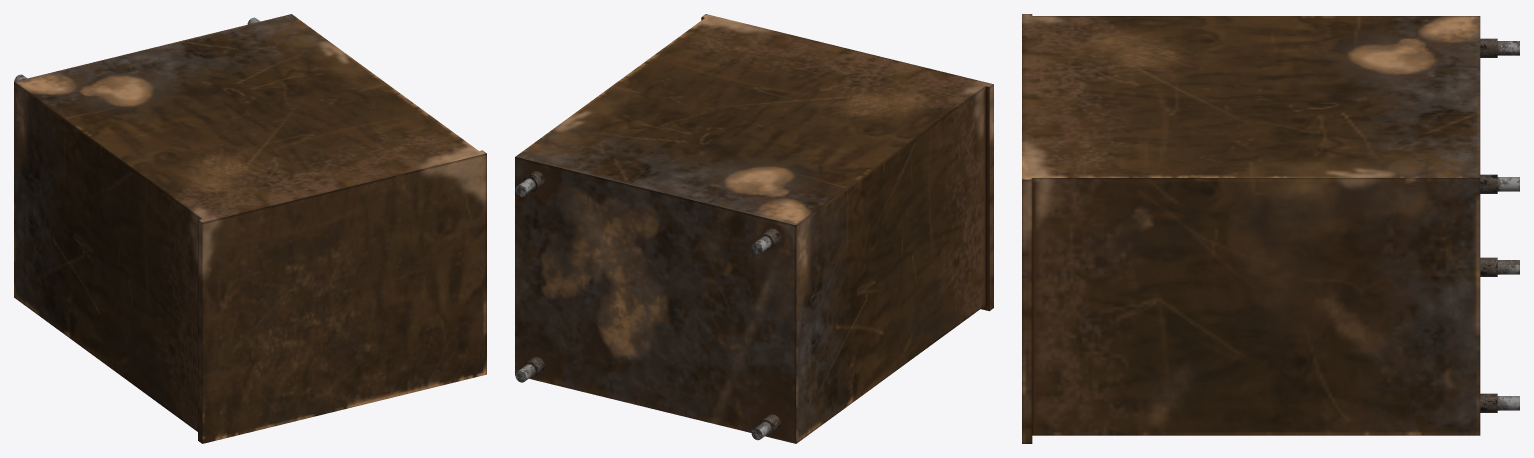
File: Sketchfab upload only (NO RIG).fbx
3 views of the same model, side by side, from view 1: azimuth 30°, elevation 25°; view 2: azimuth 150°, elevation 25°; view 3: azimuth 270°, elevation 25° (orthographic). The views are drawn at different scales.
Parts seen in each view (by area): view 1: Drawer_LOD0.001; view 2: Drawer_LOD0.001; view 3: Drawer_LOD0.001.
Boxes of the visible parts, box(x1,y1,x2,y2) form: Drawer_LOD0.001: box(14, 14, 486, 443); Drawer_LOD0.001: box(515, 14, 993, 443); Drawer_LOD0.001: box(1022, 14, 1519, 443).
Size of the model in its own units: 374 by 280 by 475.
